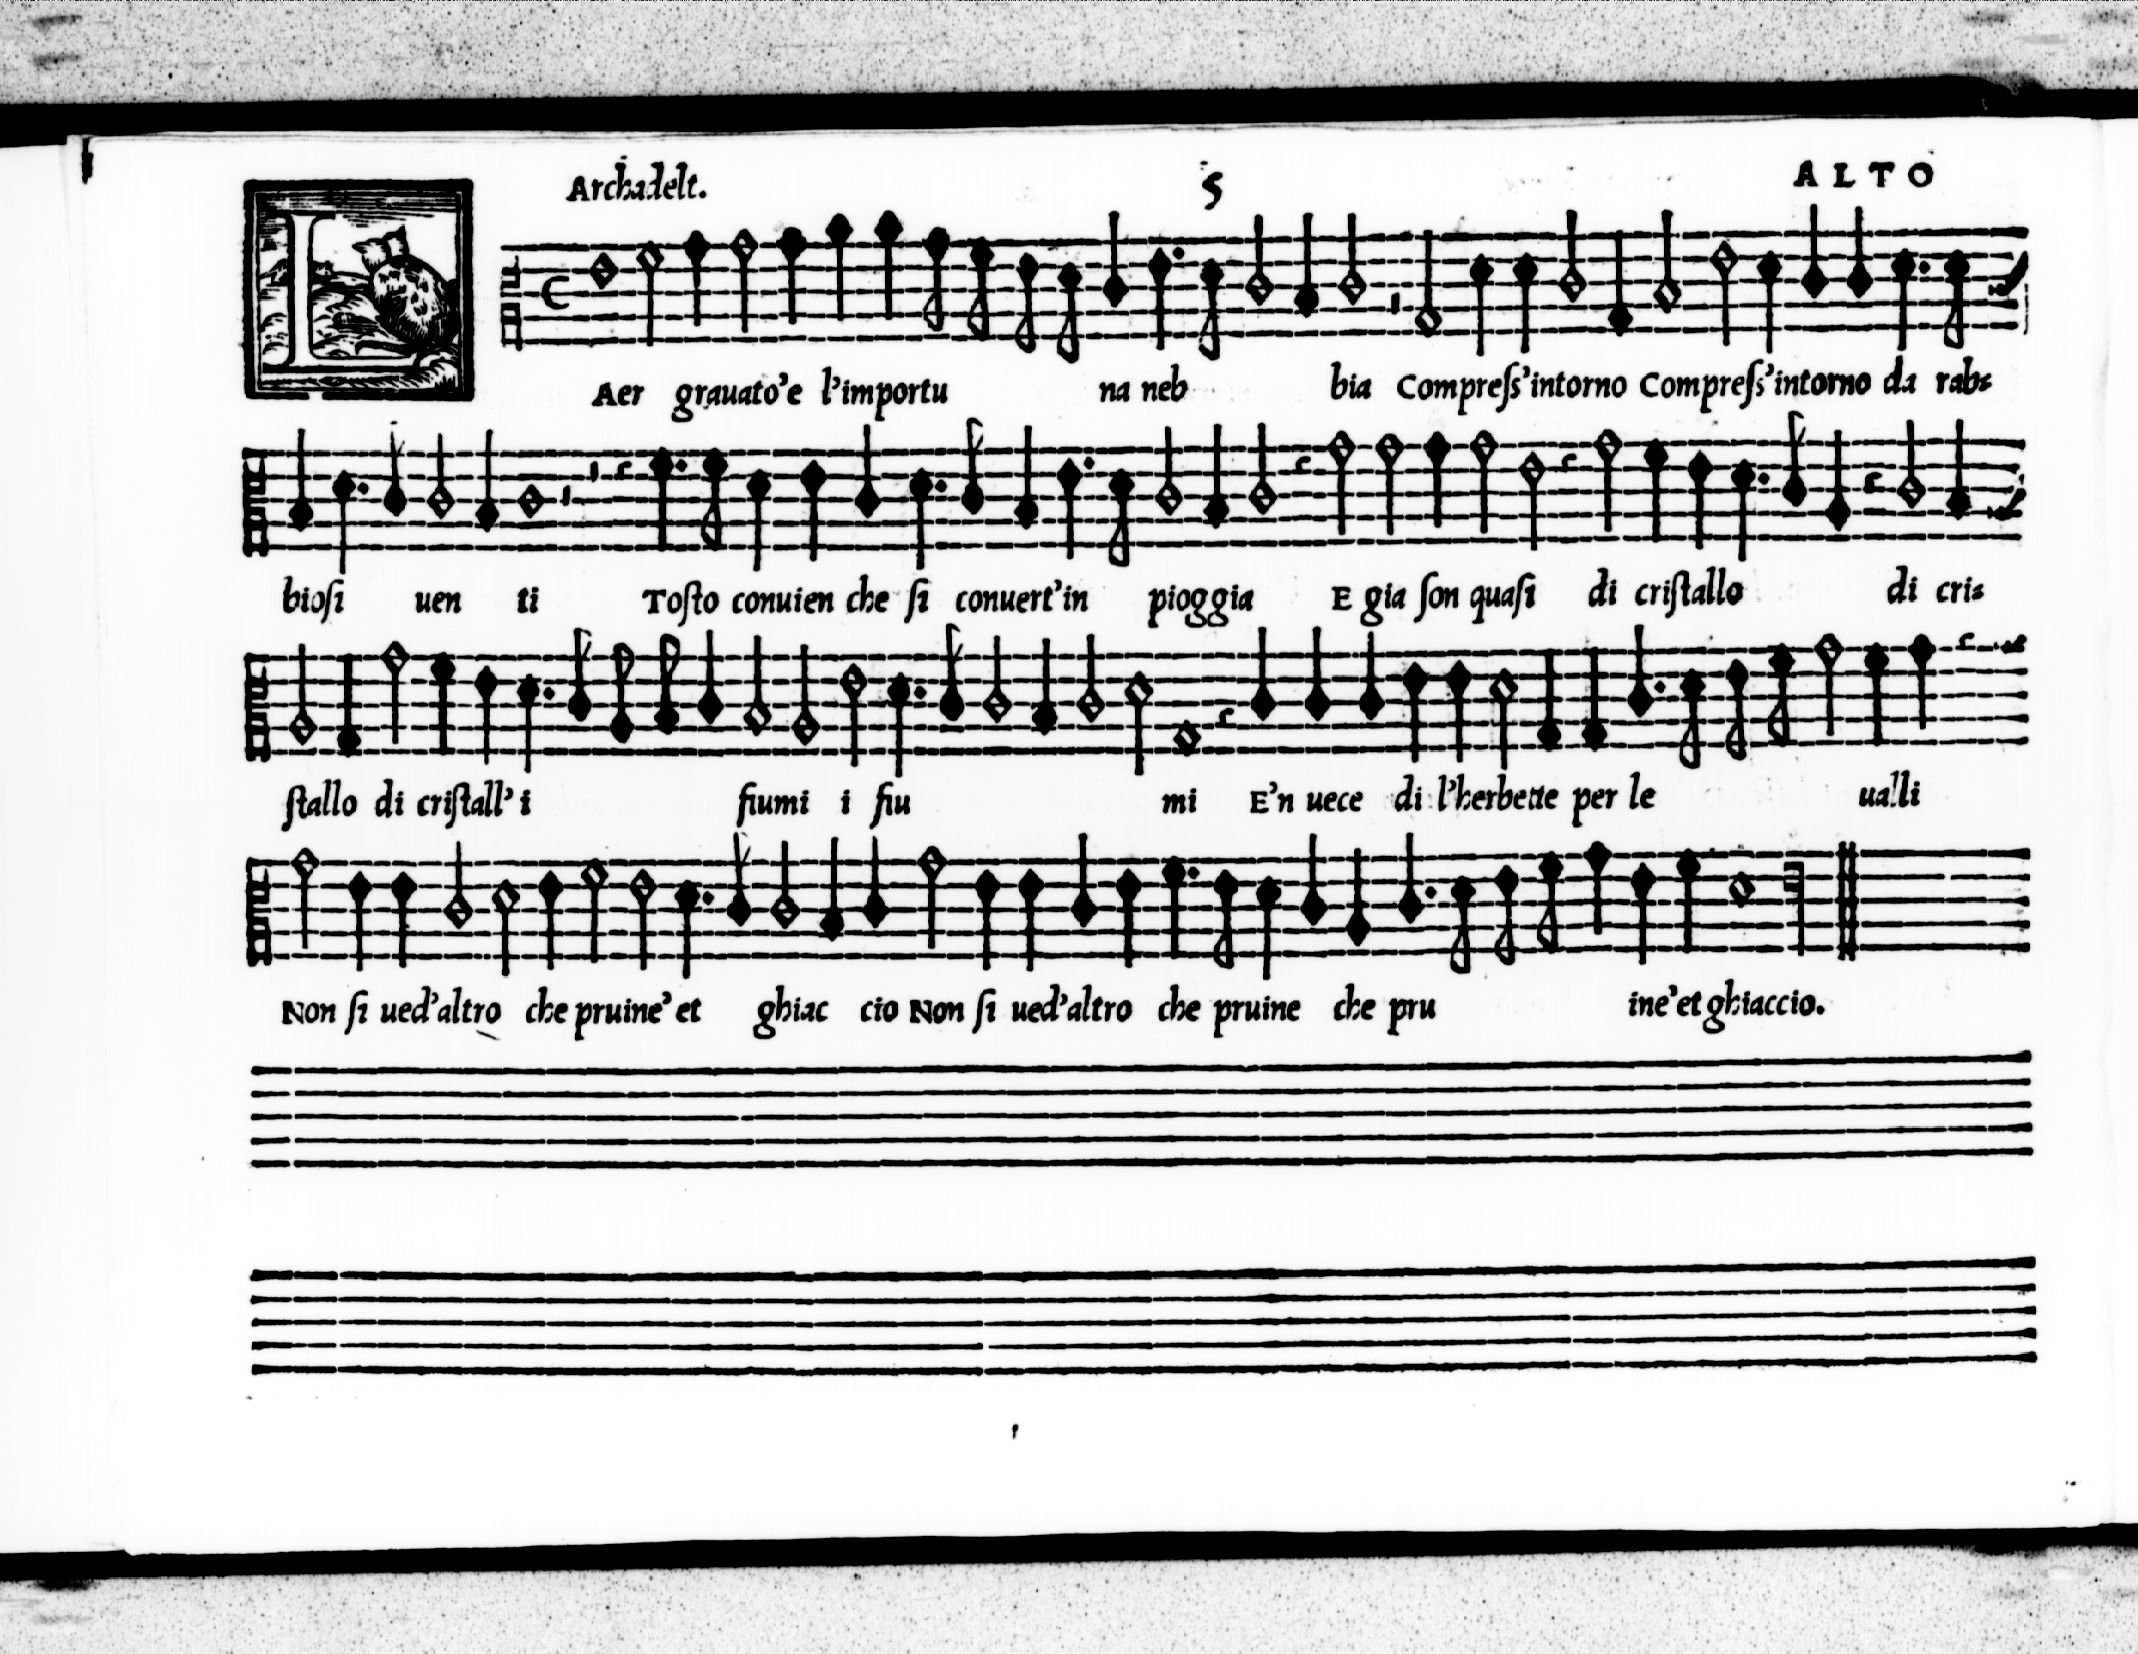barline: (1829, 845, 1862, 953)
c clef_7: (234, 843, 279, 975)
fusa_4: (1527, 835, 1567, 977)
fusa_5: (1204, 868, 1244, 989), (1485, 864, 1524, 984)
fusa_6: (1439, 864, 1480, 994)
fusa_7: (718, 819, 760, 953)
longa_5: (1781, 840, 1820, 942)
minim_3: (916, 830, 951, 960), (285, 835, 323, 953)
minim_4: (578, 866, 613, 977)
minim_5: (621, 866, 659, 982)
minim_6: (482, 866, 522, 984)
minim_7: (764, 826, 803, 949), (437, 864, 477, 953)
point: (684, 870, 725, 920), (1406, 873, 1446, 923), (1170, 850, 1208, 901)
semibreve_6: (1715, 852, 1763, 923)
semiminim_3: (1576, 826, 1621, 951)
semiminim_4: (1668, 831, 1708, 967), (1151, 843, 1189, 963)
semiminim_5: (1104, 847, 1149, 975), (1621, 842, 1661, 975), (963, 852, 1001, 977), (378, 856, 418, 974), (1007, 856, 1046, 974), (528, 861, 566, 979), (340, 856, 377, 974)
semiminim_6: (1243, 866, 1293, 993), (663, 866, 699, 986)
semiminim_7: (850, 817, 899, 948), (1060, 824, 1104, 942), (1293, 823, 1335, 941), (1387, 823, 1425, 948)
semiminim_8: (809, 824, 856, 953)
semiminim_9: (1336, 837, 1376, 956)
